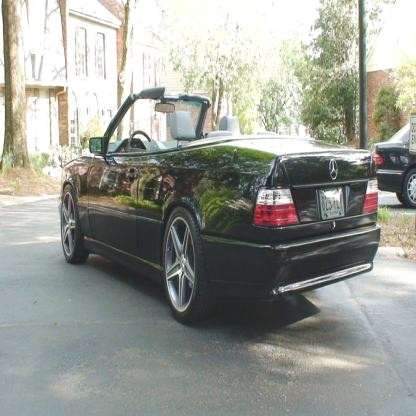Vehicle: (58, 88, 382, 329)
